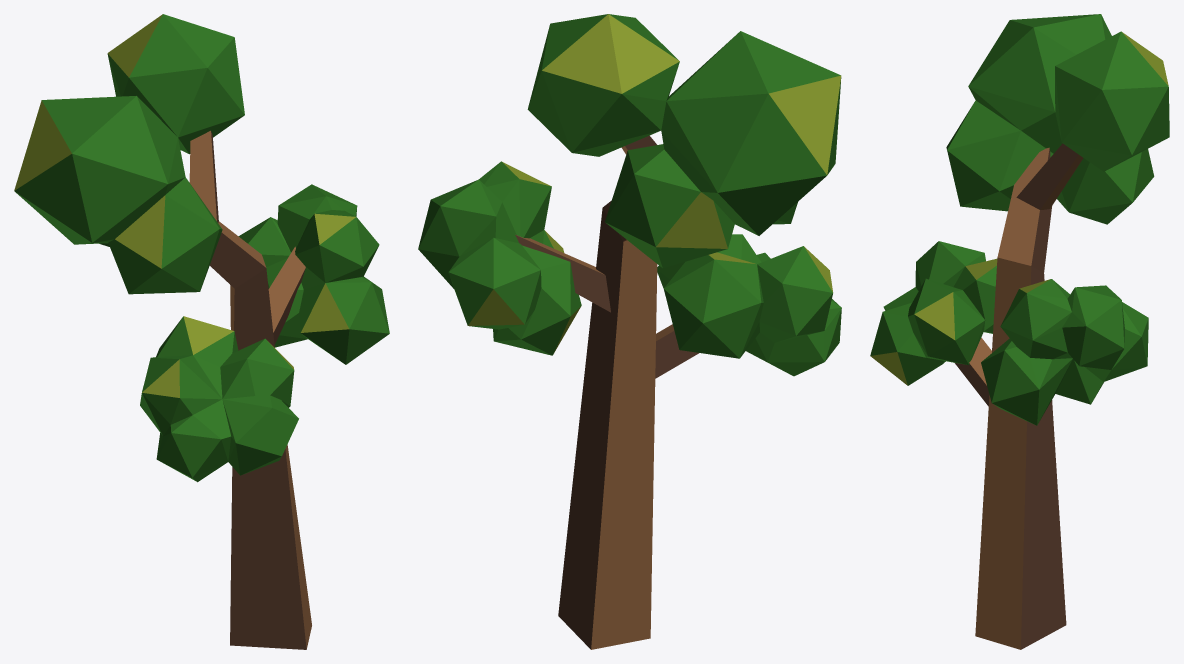
Rendered from TB_D_Env_TreeB_B.FBX.
3 views of the same model, side by side, from view 1: azimuth 30°, elevation 25°; view 2: azimuth 150°, elevation 25°; view 3: azimuth 270°, elevation 25° (orthographic). The views are drawn at different scales.
Visible parts, largest first — view 1: TB_D_Env_TreeB_B; view 2: TB_D_Env_TreeB_B; view 3: TB_D_Env_TreeB_B.
Part boxes in pixels (x1,y1,x2,y2): TB_D_Env_TreeB_B: [14, 14, 389, 649]; TB_D_Env_TreeB_B: [418, 14, 841, 649]; TB_D_Env_TreeB_B: [870, 14, 1169, 649].
Bounding box in the file's own units: 3.93 × 6.43 × 3.05.
